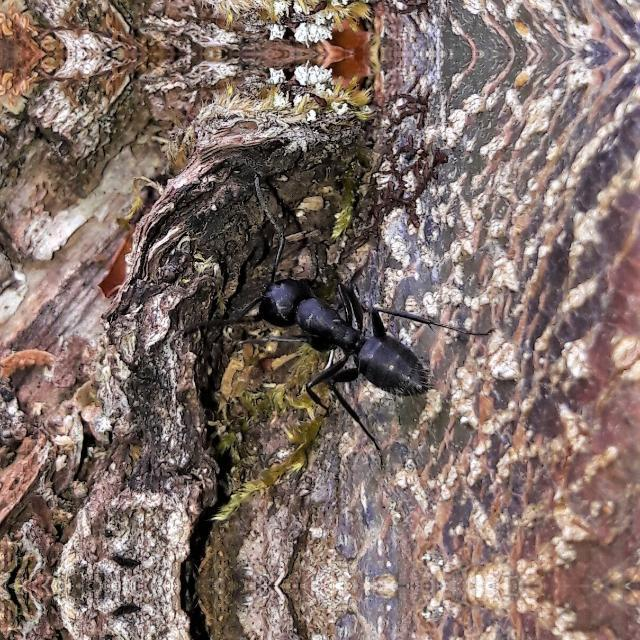Camponotus: (234, 252, 446, 406)
